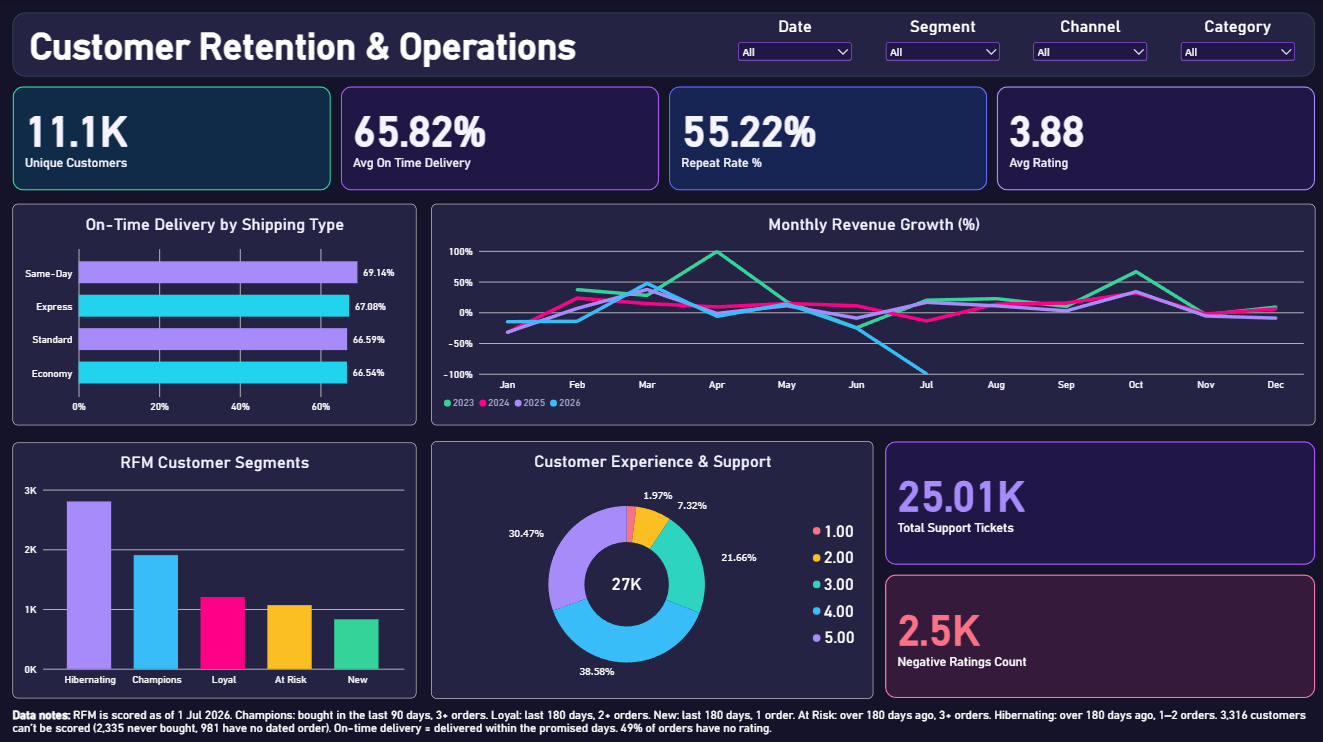

The page's visual inventory and layout, read from the dashboard file:
{"tool":"powerbi","page":{"name":"Page 2","canvas":[1920,1080],"ordinal":1},"visuals":[{"type":"shape","box":[18.5,18.5,1885.4,92.6],"z":0},{"type":"textbox","box":[43.2,37,1455.2,74.1],"z":1000},{"type":"cardVisual","fields":{"Data":["Count(ecom customers.customer_id)","ecom customers.Avg On Time Delivery","ecom customers.Repeat Rate %","Avg(ecom orders.customer_rating)"]},"box":[18.1,125,1887.5,151.4],"z":2000},{"type":"columnChart","title":"RFM Customer Segments","fields":{"Category":["Customer RFM.RFM Segment"],"Y":["Customer RFM.RFM Customer Count"]},"box":[18.5,640.1,584.6,370.5],"z":3000},{"type":"lineChart","title":"Monthly Revenue Growth (%)","fields":{"Category":["Date Table.Month"],"Series":["Date Table.Year"],"Y":["Customer RFM.MoM Growth %"]},"box":[623.7,294.3,1280.3,321.1],"z":4000},{"type":"barChart","title":"On-Time Delivery by Shipping Type","fields":{"Category":["ecom orders.shipping_type"],"Y":["Customer RFM.On Time Delivery %"]},"box":[18.5,294.3,584.6,321.1],"z":5000},{"type":"slicer","title":"Category","fields":{"Values":["ecom order_lines.product_category"]},"box":[1704.3,23.4,175,78.2],"z":6000},{"type":"donutChart","title":"Customer Experience & Support","fields":{"Category":["ecom orders.customer_rating"],"Y":["Customer RFM.Rated Orders"]},"box":[623.7,638.1,640.1,372.4],"z":6000,"group":"g1"},{"type":"slicer","title":"Segment","fields":{"Values":["ecom customers.customer_segment"]},"box":[1276.9,23.4,175,78.2],"z":7000},{"type":"cardVisual","fields":{"Data":["Customer RFM.Total Support Tickets","Customer RFM.Negative Ratings Count"]},"box":[1280.3,638.2,623.7,372.4],"z":7000,"group":"g1"},{"type":"slicer","title":"Channel","fields":{"Values":["ecom customers.acquisition_channel"]},"box":[1490.6,23.4,175,78.2],"z":8000},{"type":"slicer","title":"Date","fields":{"Values":["Date Table.Year Hierarchy.Year","Date Table.Year Hierarchy.Month","Date Table.Year Hierarchy.Date"]},"box":[1064.2,23.4,174,78.2],"z":9000},{"type":"group","id":"g1","title":"Group 1","box":[623.7,638.1,1280.3,372.6],"z":10000},{"type":"textbox","box":[624,640,1280,370],"z":11000},{"type":"textbox","box":[18.5,1025,1885.4,55.6],"z":12000}]}

Visuals, with their boxes in screenshot pixels (x1, y1, x2, y2), scaled from the page's 1920x1080 canvas onto the 1323x742 screenshot:
shape: <region>13, 13, 1312, 76</region>
textbox: <region>30, 25, 1032, 76</region>
cardVisual - Count(ecom customers.customer_id) x ecom customers.Avg On Time Delivery: <region>12, 86, 1313, 190</region>
"RFM Customer Segments" columnChart: <region>13, 440, 416, 694</region>
"Monthly Revenue Growth (%)" lineChart: <region>430, 202, 1312, 423</region>
"On-Time Delivery by Shipping Type" barChart: <region>13, 202, 416, 423</region>
"Category" slicer: <region>1174, 16, 1295, 70</region>
"Customer Experience & Support" donutChart: <region>430, 438, 871, 694</region>
"Segment" slicer: <region>880, 16, 1000, 70</region>
cardVisual - Customer RFM.Total Support Tickets x Customer RFM.Negative Ratings Count: <region>882, 438, 1312, 694</region>
"Channel" slicer: <region>1027, 16, 1148, 70</region>
"Date" slicer: <region>733, 16, 853, 70</region>
"Group 1" group: <region>430, 438, 1312, 694</region>
textbox: <region>430, 440, 1312, 694</region>
textbox: <region>13, 704, 1312, 741</region>
